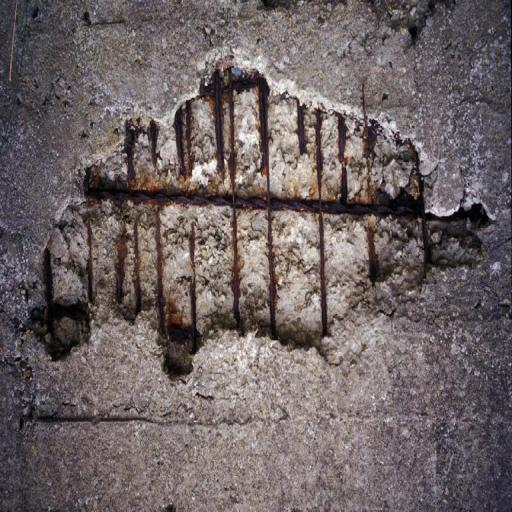spalling: (28, 40, 502, 388)
